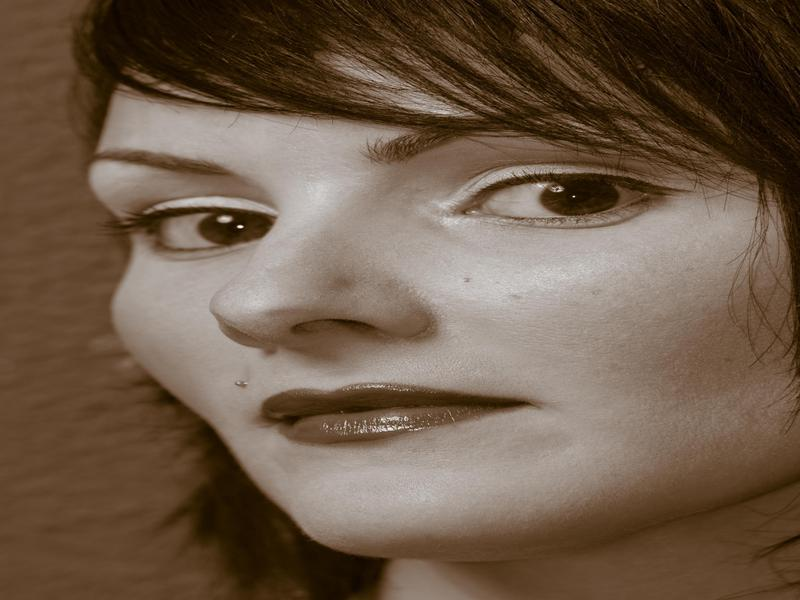person: (85, 2, 800, 599)
